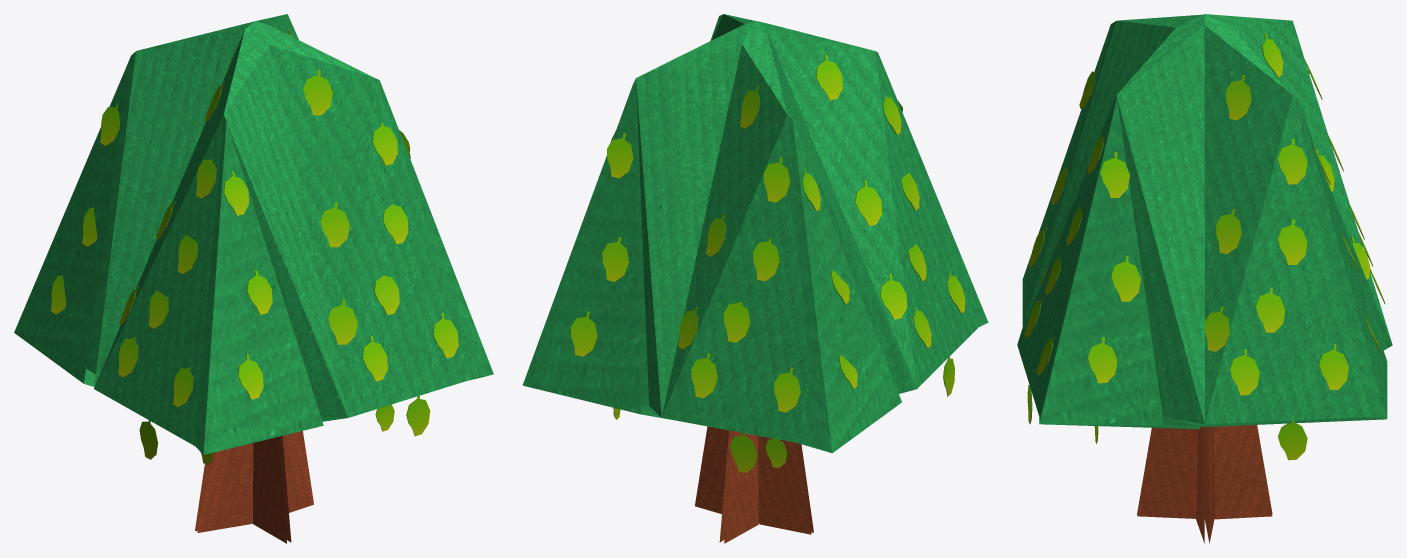
The model's file is Pohon Mangga.fbx.
The picture shows the model from 3 angles, left to right: view 1: azimuth 30°, elevation 25°; view 2: azimuth 150°, elevation 25°; view 3: azimuth 270°, elevation 25°; orthographic projection.
Visible parts, largest first — view 1: Pohon Mangga; view 2: Pohon Mangga; view 3: Pohon Mangga.
Part boxes in pixels (bbox=[...]): Pohon Mangga: bbox=[14, 14, 493, 543]; Pohon Mangga: bbox=[522, 14, 988, 543]; Pohon Mangga: bbox=[1017, 14, 1392, 543].
Size of the model in its own units: 12.7 by 18.71 by 12.7.
